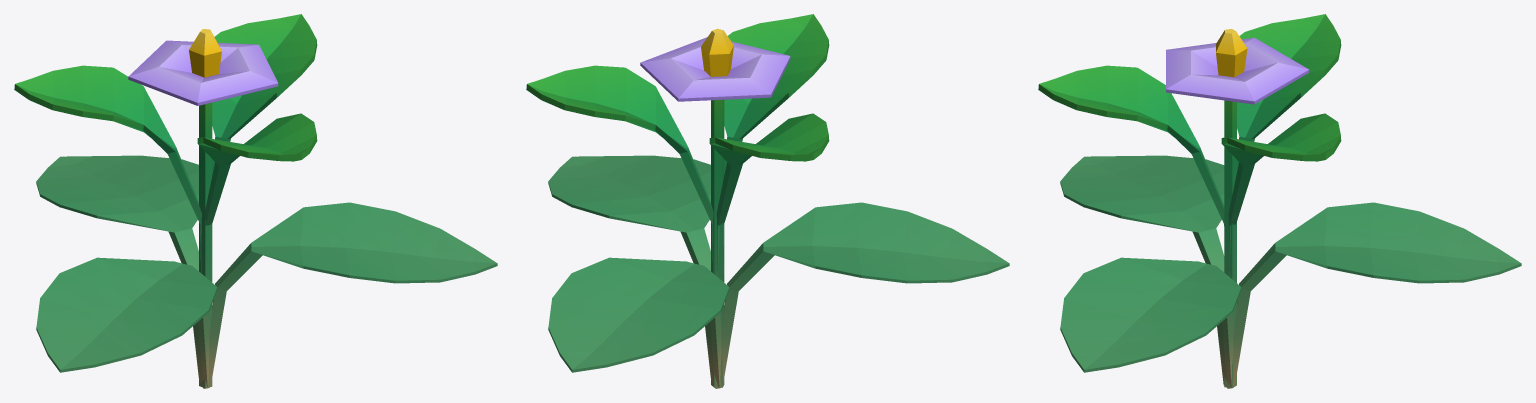
The model's file is potato3.glb.
The picture shows the model from 3 angles, left to right: view 1: azimuth 30°, elevation 25°; view 2: azimuth 150°, elevation 25°; view 3: azimuth 270°, elevation 25°; orthographic projection.
Parts seen in each view (by area): view 1: Potato3; view 2: Potato3; view 3: Potato3.
Part boxes in pixels (x1,y1,x2,y2): Potato3: (14, 14, 497, 388); Potato3: (526, 14, 1009, 388); Potato3: (1038, 14, 1521, 388).
Bounding box in the file's own units: 0.6286 × 0.489 × 0.6014.
1 material, 1 textured.
